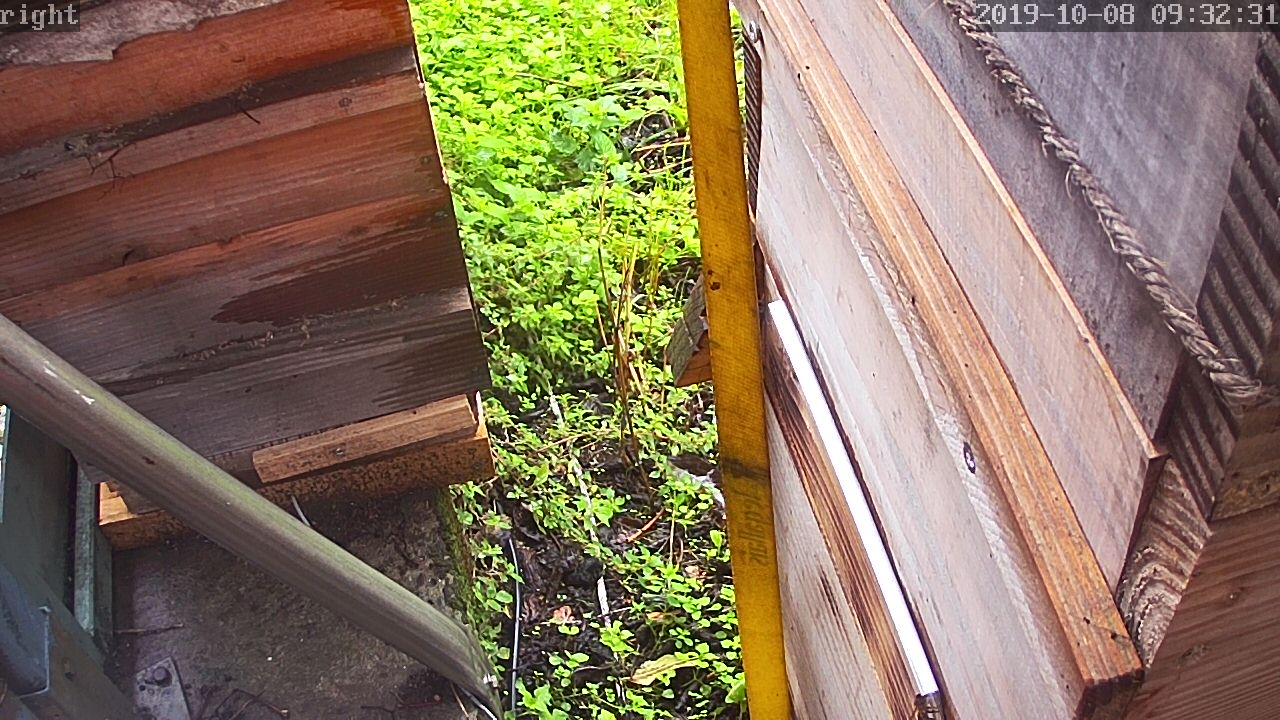bee: (901, 686, 947, 720)
